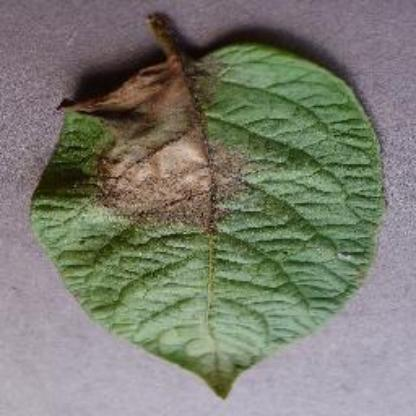Late-Blight: (31, 6, 388, 400)
